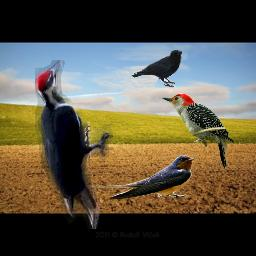Crow: (131, 50, 182, 88)
Swallow: (88, 154, 194, 200)
Woodpecker: (35, 60, 113, 229), (162, 93, 234, 169)
